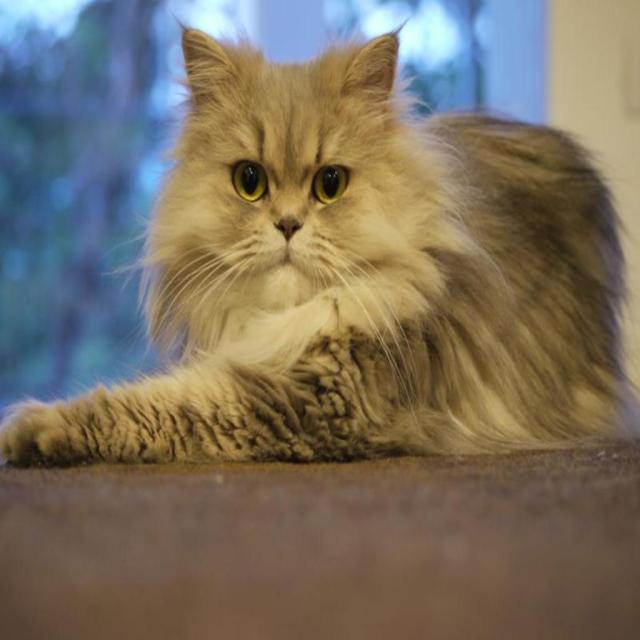Cat: (2, 13, 638, 461)
